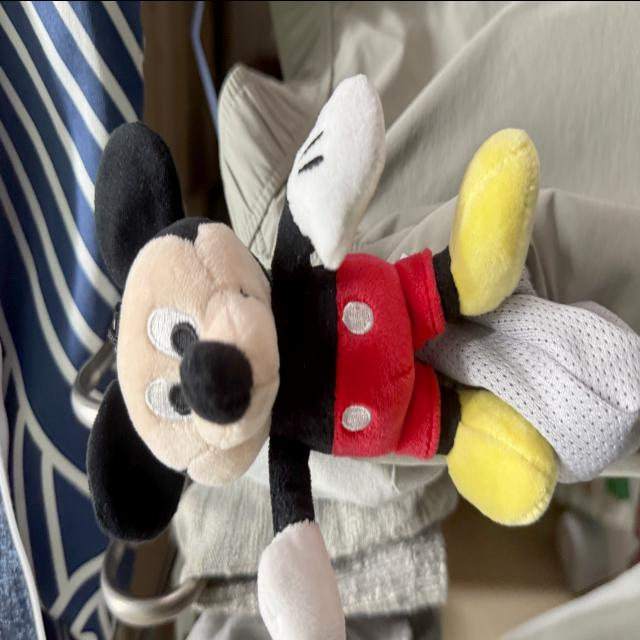mickey: (88, 76, 557, 639)
